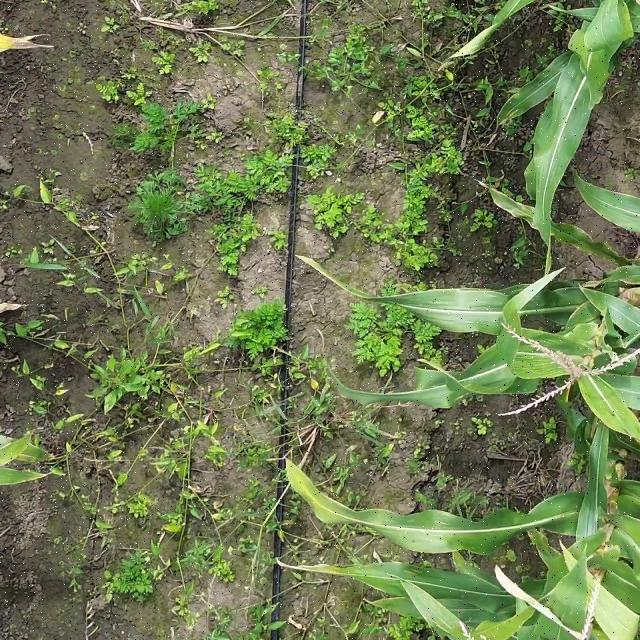gray-leaf-spot: (509, 58, 608, 193)
